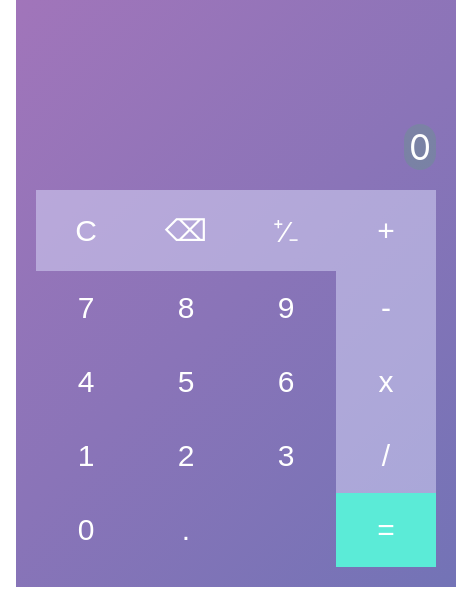
Scenario: <Calculator /> › should fill the display when clicking the buttons
Click the button with test id "calculator-button-1": {"x": 86, "y": 456} [36,419,136,493]
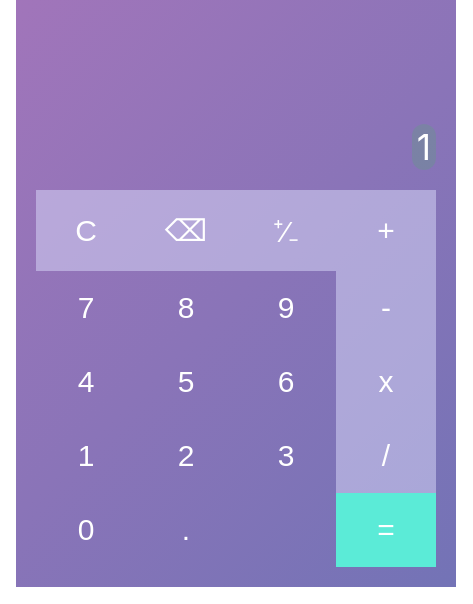
Click the button with test id "calculator-button-0": {"x": 86, "y": 530} [36,493,136,567]
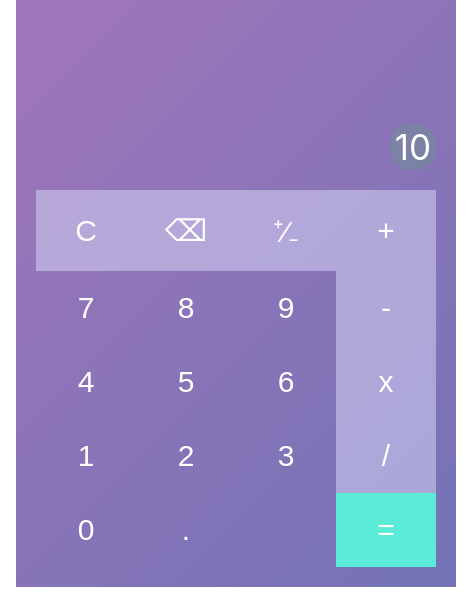
Click the button with test id "calculator-button-+": {"x": 386, "y": 230} [336,190,436,271]
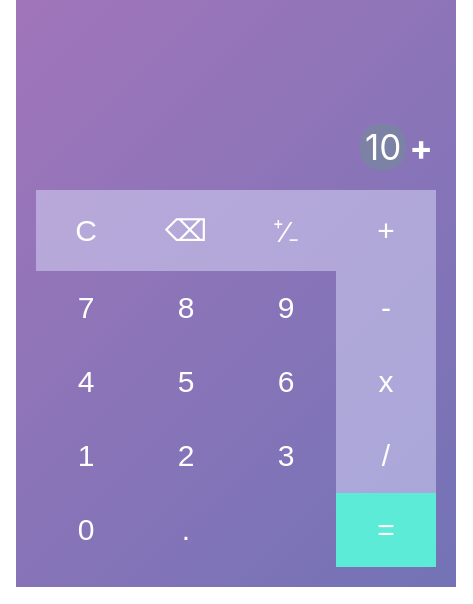
Click the button with test id "calculator-button-1": {"x": 86, "y": 456} [36,419,136,493]
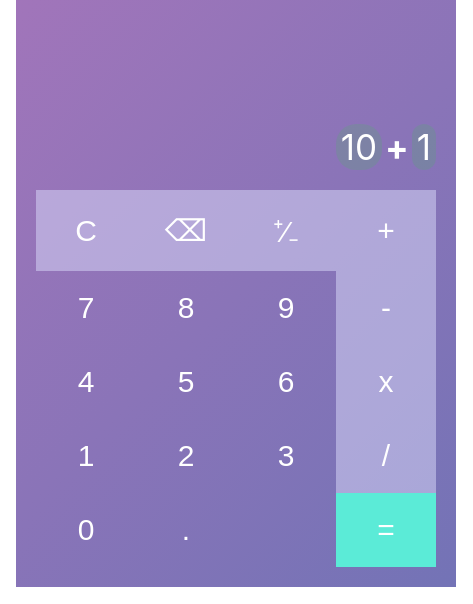
Now the element with test id "calculator-display" reads "10 + 1", box [336,124,436,170]
